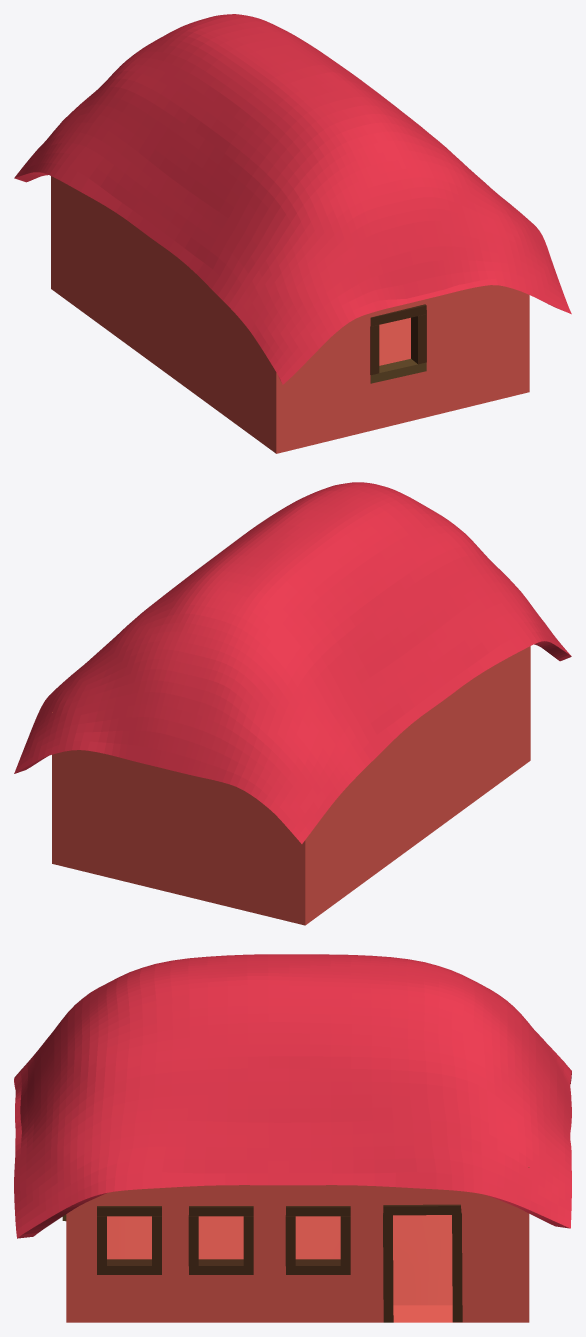
Rendered from NordseeHausStrohdachKlein.fbx.
3 renders of one model, top to bottom at view 1: azimuth 30°, elevation 25°; view 2: azimuth 150°, elevation 25°; view 3: azimuth 270°, elevation 25°, orthographic. The views are drawn at different scales.
Parts seen in each view (by area): view 1: Cube; view 2: Cube; view 3: Cube.
Boxes of the visible parts, x1,y1,x2,y2 form: Cube: [14, 14, 571, 453]; Cube: [14, 482, 571, 925]; Cube: [14, 954, 571, 1322].
Bounding box in the file's own units: 1749 × 1515 × 2631.
